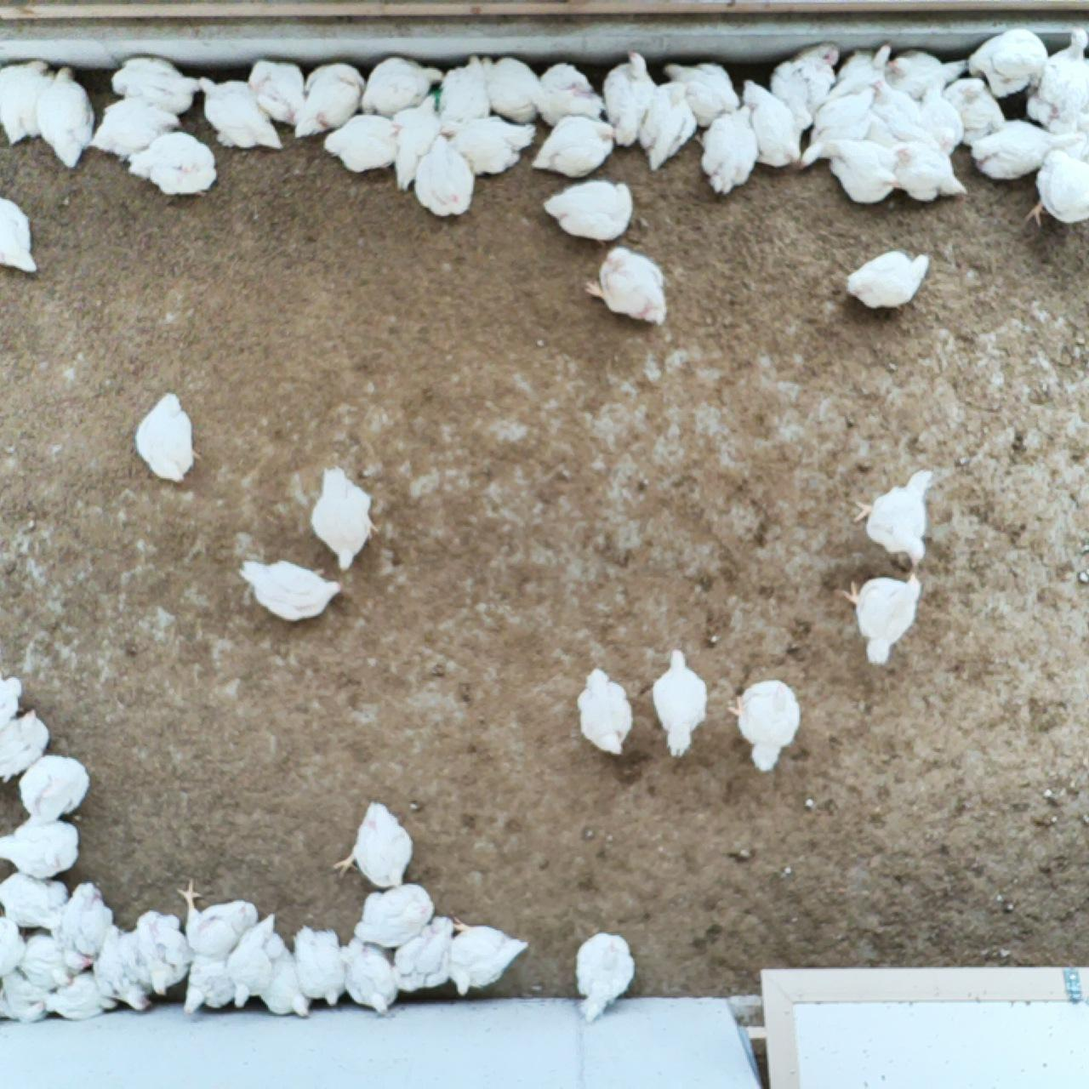chicken: (853, 466, 938, 570), (329, 794, 415, 889), (840, 572, 924, 669), (309, 460, 381, 572), (725, 673, 804, 775), (441, 913, 535, 996), (239, 552, 345, 625), (587, 247, 674, 333), (194, 71, 281, 155), (130, 389, 204, 487), (176, 873, 259, 960), (692, 97, 760, 199), (968, 115, 1081, 176), (539, 175, 636, 246), (34, 63, 97, 169), (651, 645, 710, 758), (125, 129, 220, 199), (436, 111, 536, 177), (292, 56, 368, 141), (597, 47, 660, 149), (636, 78, 702, 175), (965, 23, 1051, 95), (529, 110, 618, 179), (574, 931, 638, 1026), (410, 130, 478, 219), (387, 93, 448, 192), (574, 666, 638, 760), (355, 878, 438, 949), (740, 79, 804, 170), (227, 912, 286, 1010), (91, 96, 183, 158), (93, 922, 153, 1017), (128, 906, 190, 997), (662, 56, 741, 127), (845, 248, 931, 313), (340, 935, 405, 1020), (771, 40, 840, 120), (109, 55, 201, 115), (1025, 145, 1089, 230), (392, 914, 458, 995), (824, 138, 901, 207), (15, 753, 93, 821), (528, 60, 608, 126), (1033, 30, 1089, 124), (322, 113, 406, 175), (0, 818, 82, 881), (362, 56, 448, 115), (292, 925, 351, 1011), (64, 879, 117, 974), (0, 56, 53, 147), (884, 47, 973, 101), (481, 51, 544, 122), (796, 121, 880, 174), (884, 144, 966, 198), (0, 869, 70, 931), (249, 56, 311, 125), (827, 35, 894, 97), (435, 48, 491, 122), (262, 944, 314, 1022), (943, 77, 1007, 140), (915, 74, 966, 153), (0, 708, 53, 784), (44, 971, 118, 1025), (0, 194, 44, 281), (813, 78, 885, 131), (868, 77, 919, 144), (15, 936, 73, 992), (182, 954, 229, 1017), (1042, 101, 1089, 160), (0, 977, 50, 1029), (0, 914, 27, 981), (0, 669, 20, 737)
